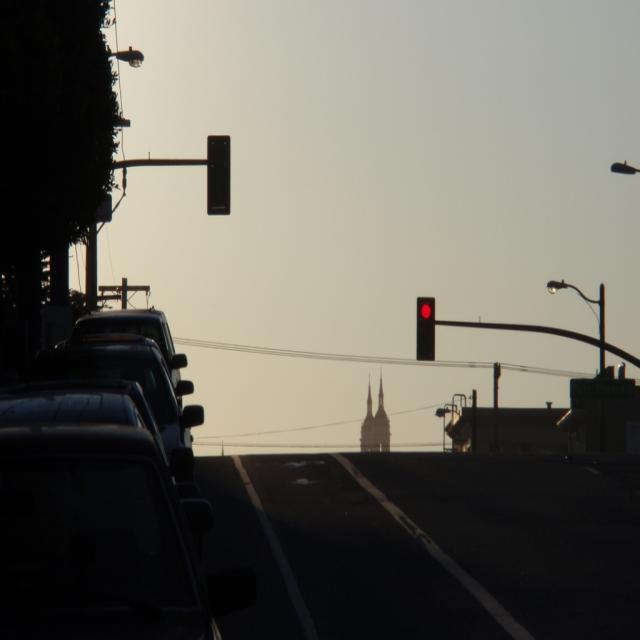traffic light: (417, 295, 436, 361)
